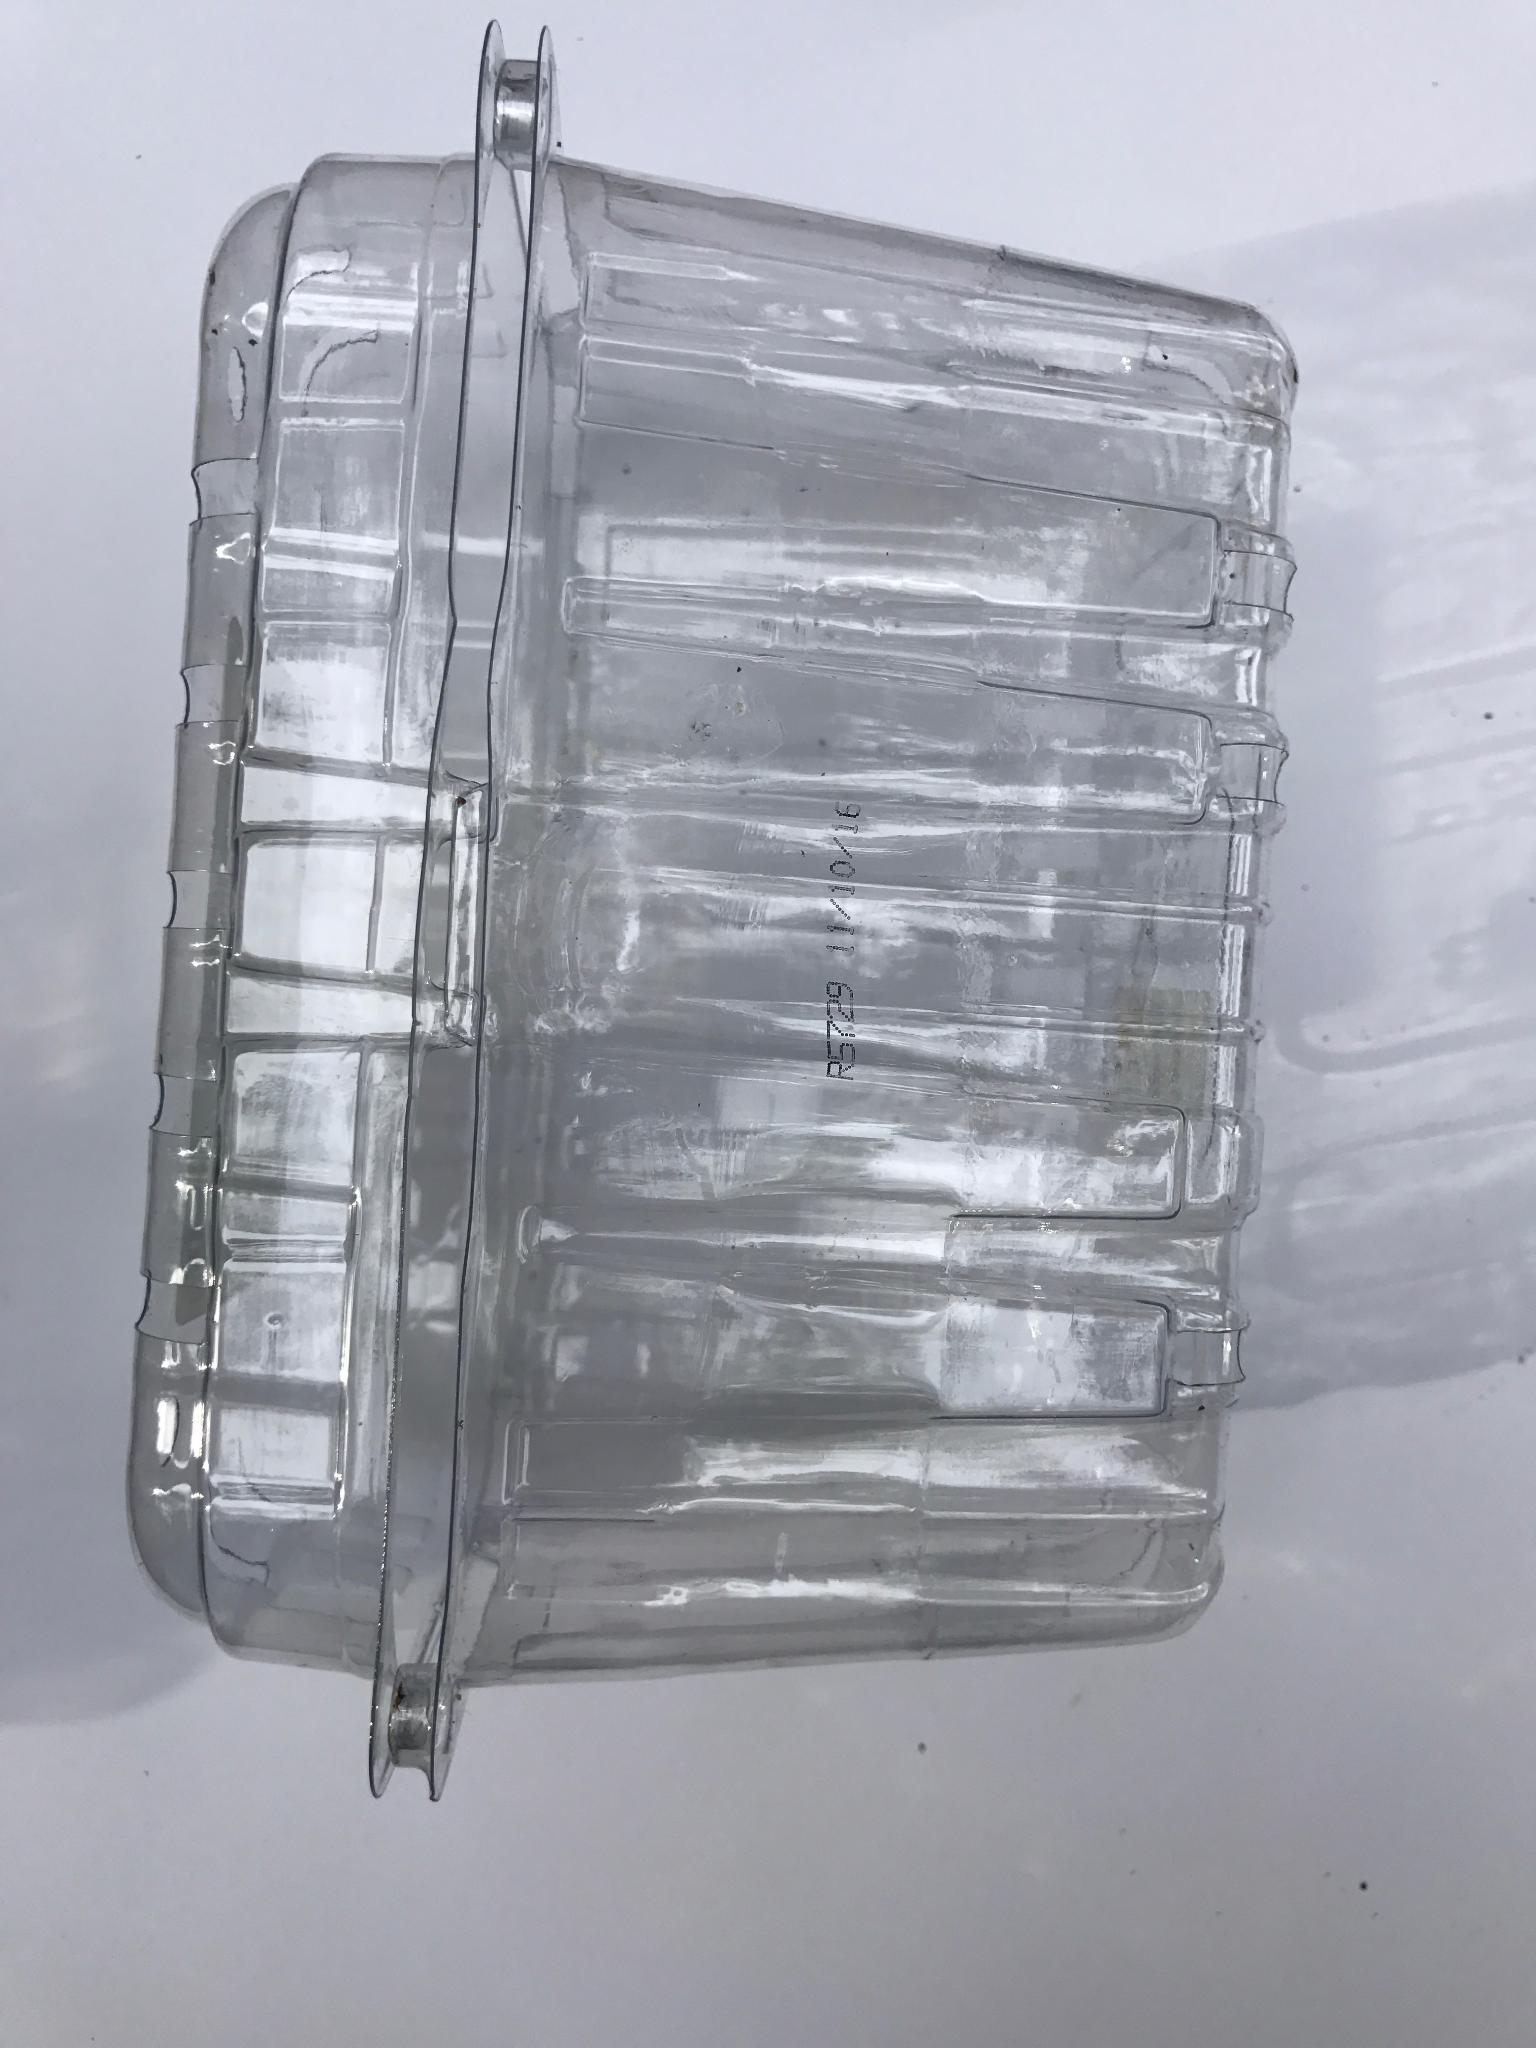Plastic: (115, 18, 1333, 1827)
